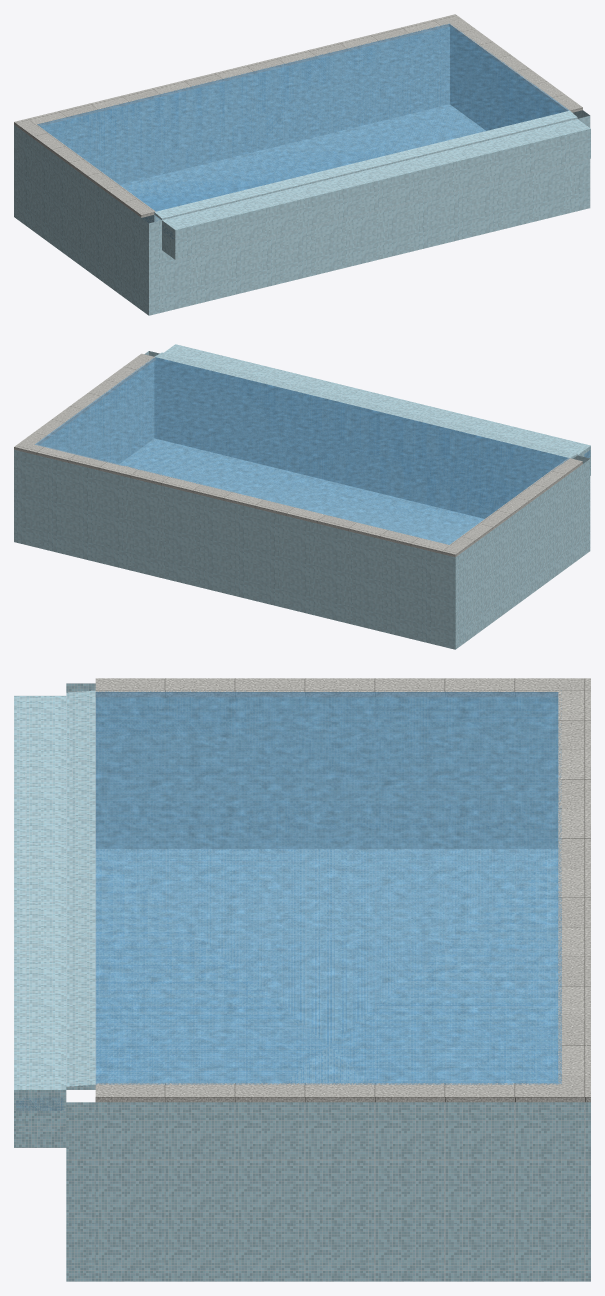
The picture shows the model from 3 angles, top to bottom: view 1: azimuth 30°, elevation 25°; view 2: azimuth 150°, elevation 25°; view 3: azimuth 270°, elevation 25°; orthographic projection. The views are drawn at different scales.
Visible parts, largest first — view 1: water.infinity_pool (×3); view 2: water.infinity_pool (×3); view 3: water.infinity_pool (×3).
Part boxes in pixels (x1,y1,x2,y2): water.infinity_pool (×3): (14, 14, 590, 315); water.infinity_pool (×3): (14, 344, 590, 649); water.infinity_pool (×3): (14, 678, 590, 1281).
Size of the model in its own units: 8.5 by 4.95 by 1.75.
Materials: 3 (3 with a texture image).
